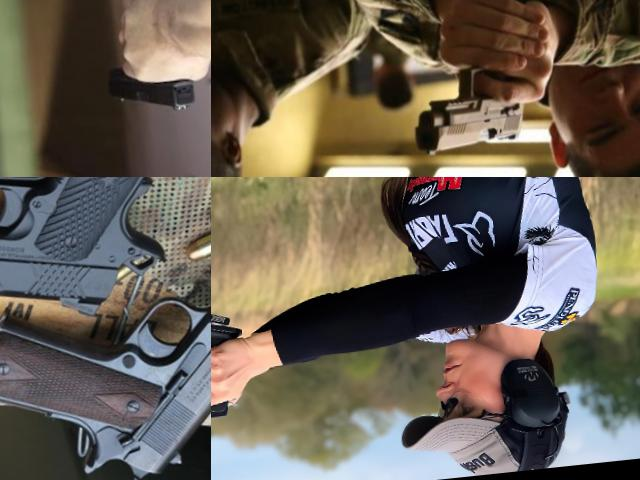handgun: (0, 181, 211, 480), (0, 177, 211, 353), (211, 305, 306, 462), (404, 54, 534, 160), (91, 0, 202, 120)
